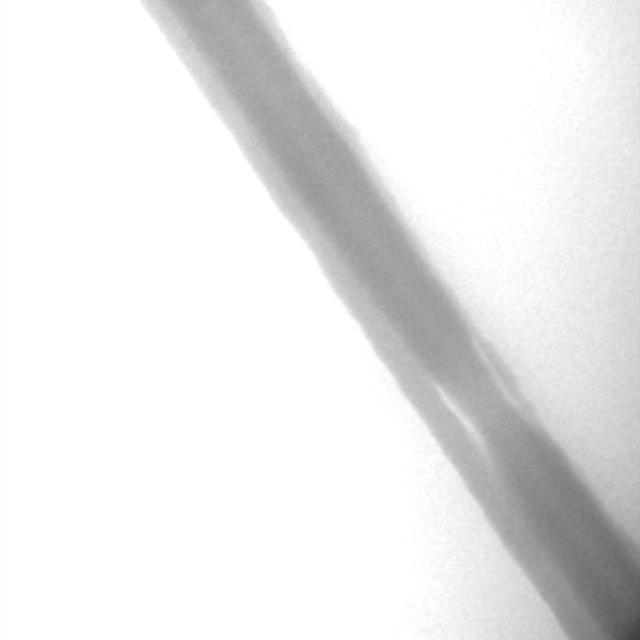unfused: (433, 343, 518, 446)
